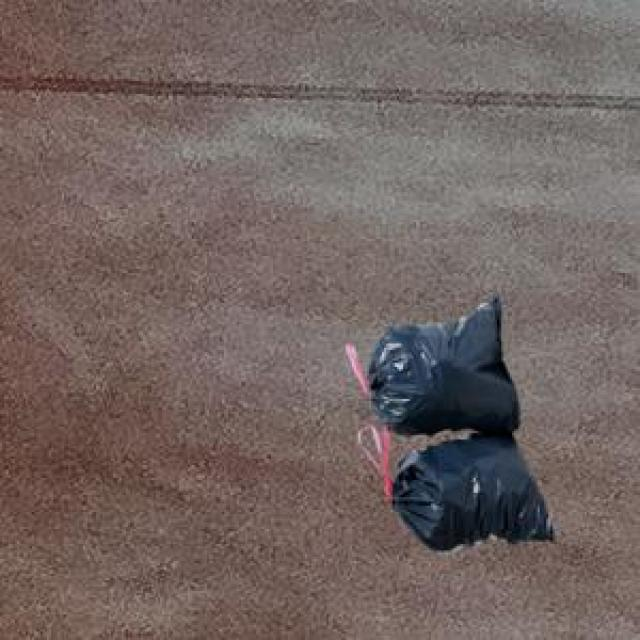Trashbag: (391, 433, 556, 558), (376, 312, 524, 440)
